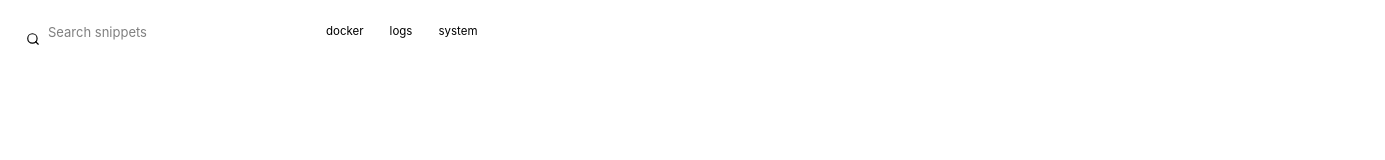
Test case: Snippets tab › filters snippets by search and tag
Later steps or results of the test are not shown.
Type "disk" into the search field labelled "Search snippets" at (160, 32), box x1=16 y1=16 x2=304 y2=48
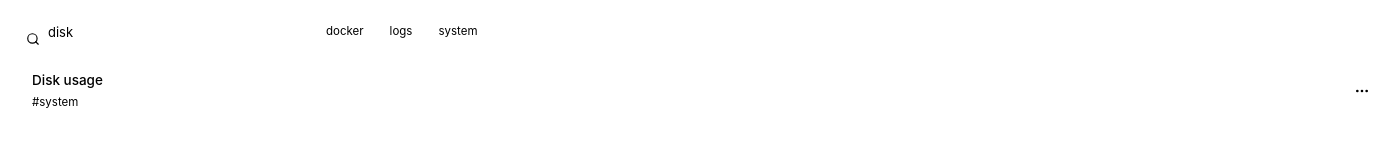
Clear the search field named "Search snippets" at (160, 32), box x1=16 y1=16 x2=304 y2=48
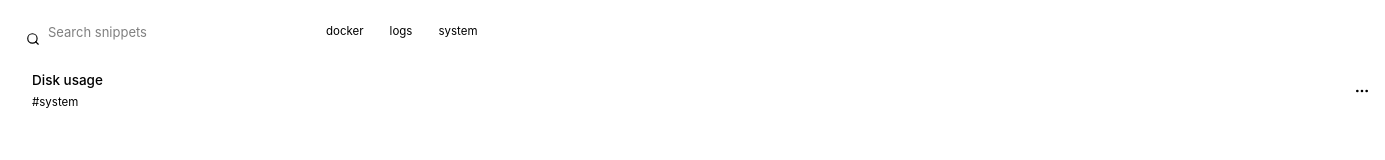
Click the button "logs" at (401, 32), box x1=380 y1=20 x2=422 y2=44
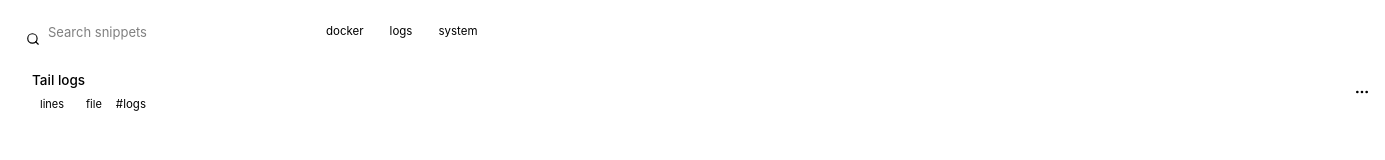
Check: the text "lines" is shown, box x1=32 y1=94 x2=72 y2=115
